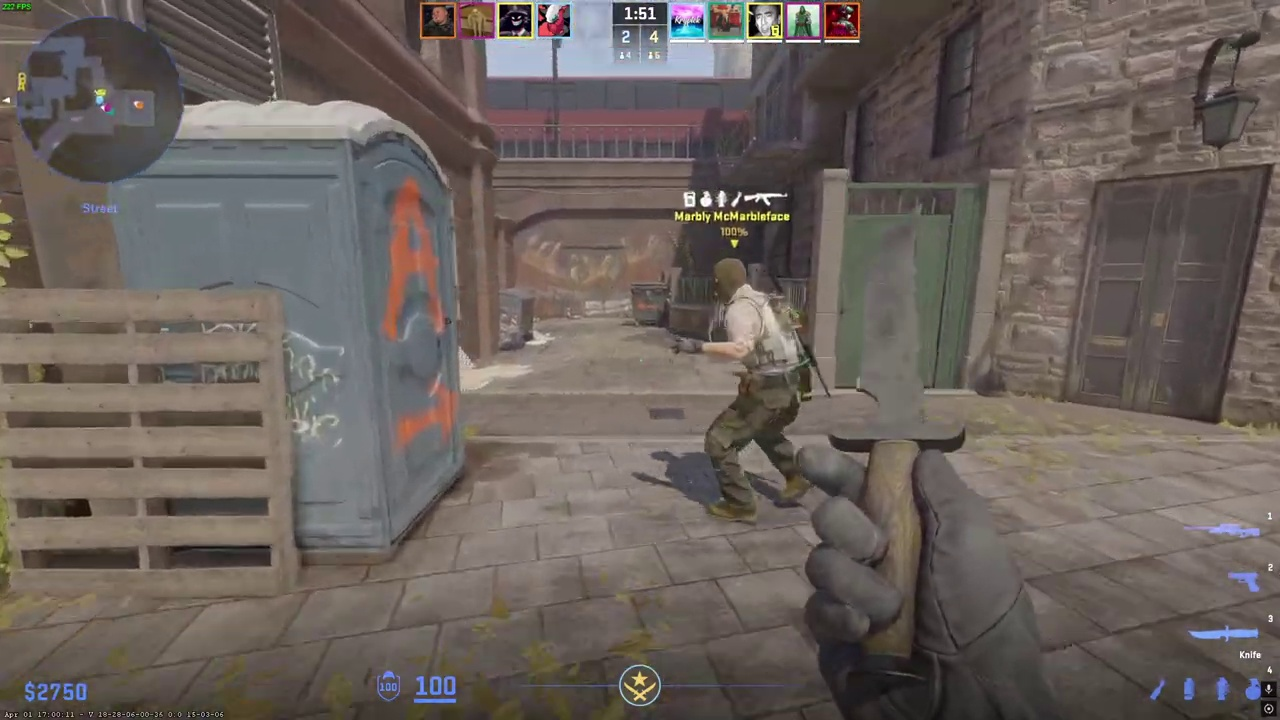Terrorist: (691, 258, 811, 522)
